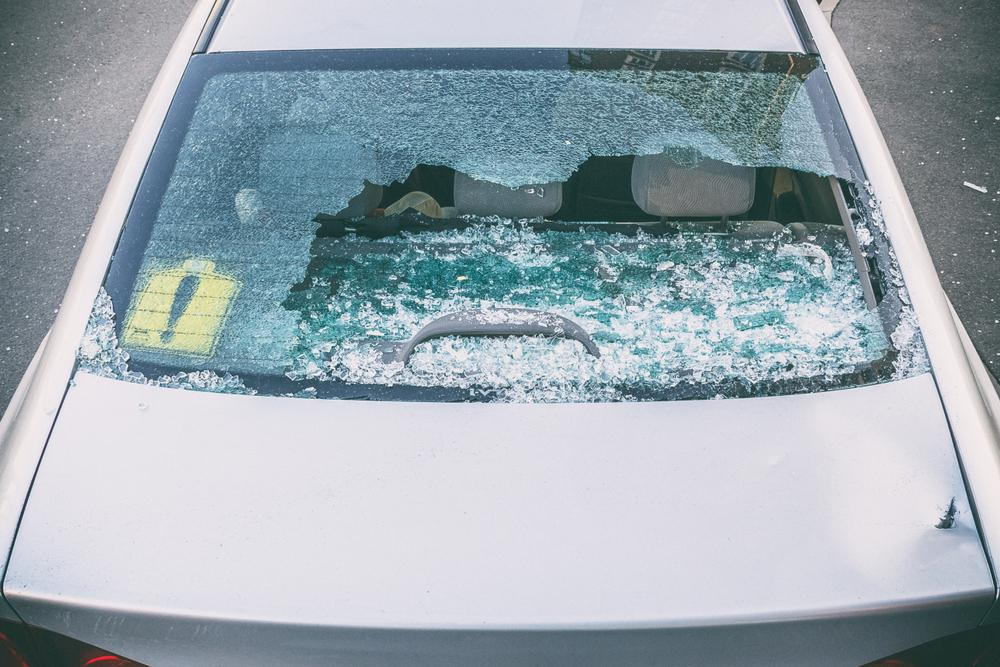crack: (933, 494, 958, 529)
glass shatter: (73, 48, 932, 403)
